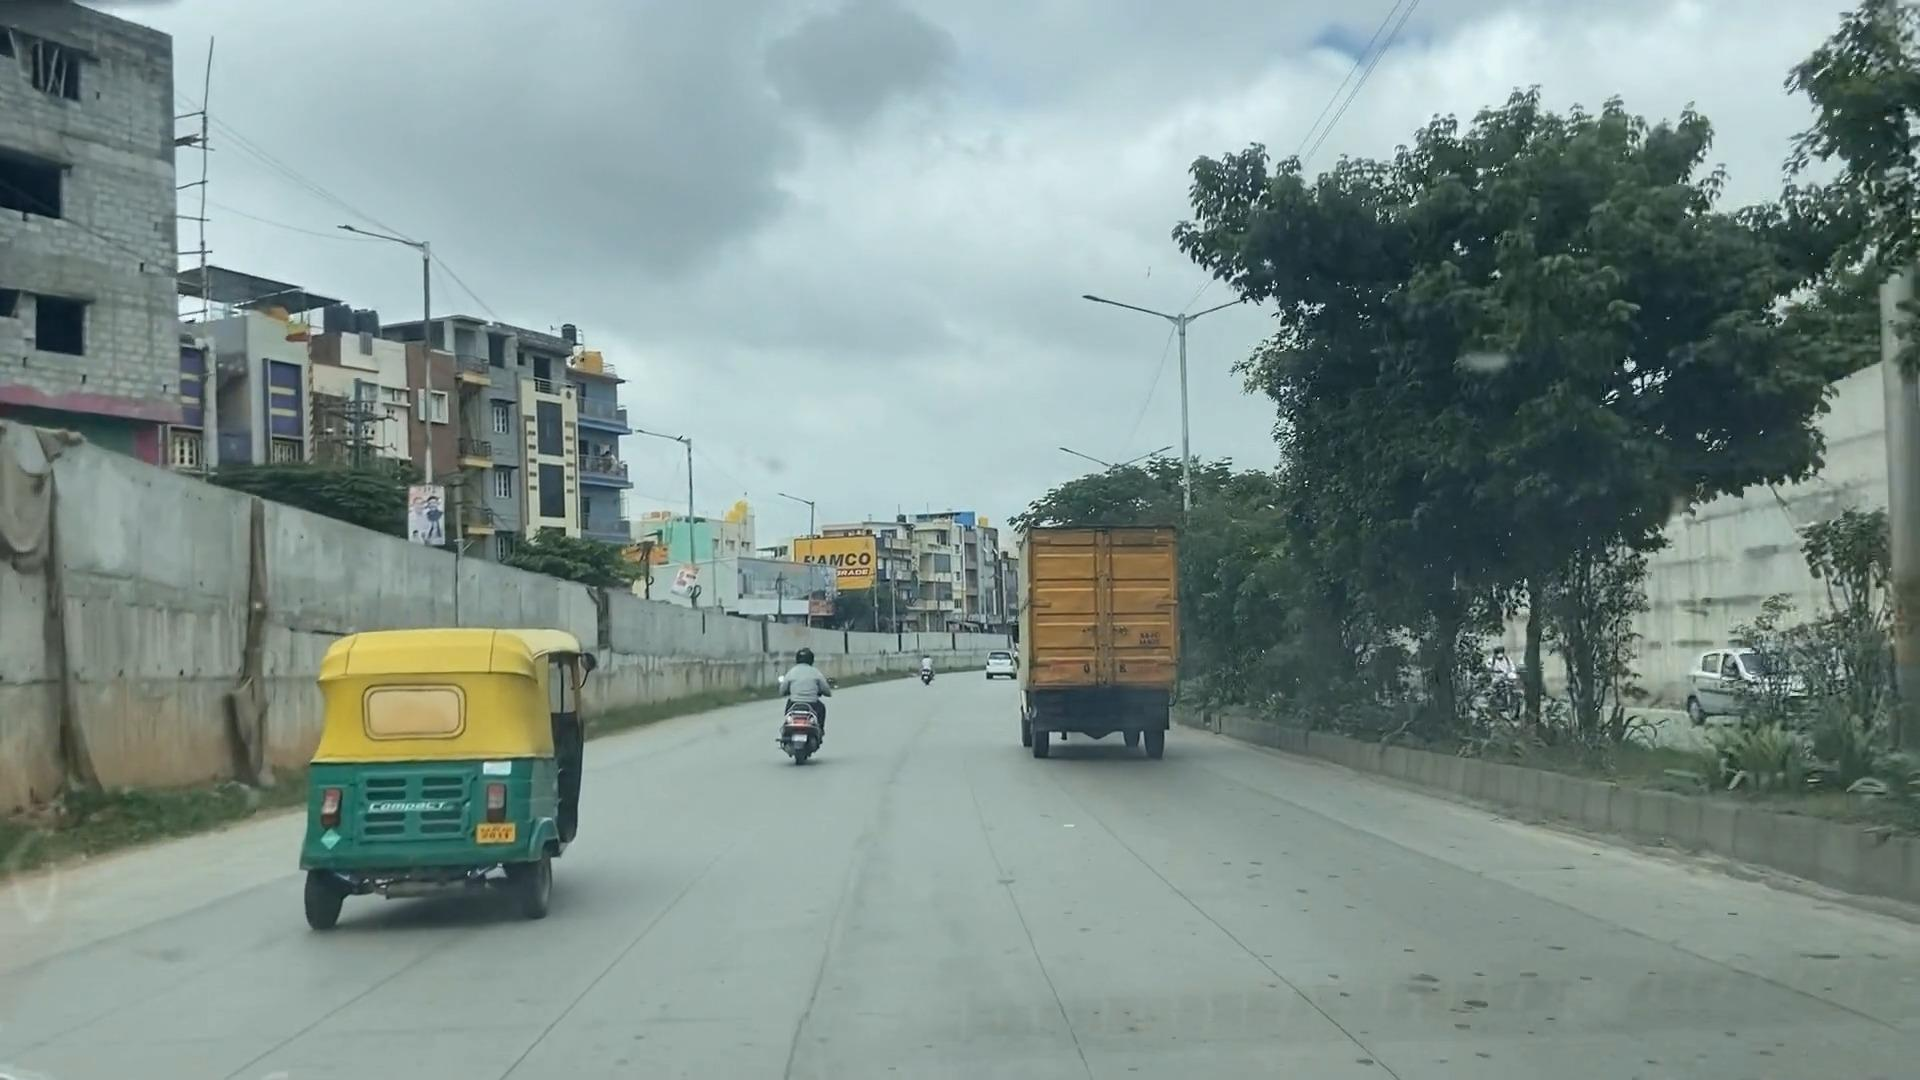HMV: (990, 487, 1203, 798)
